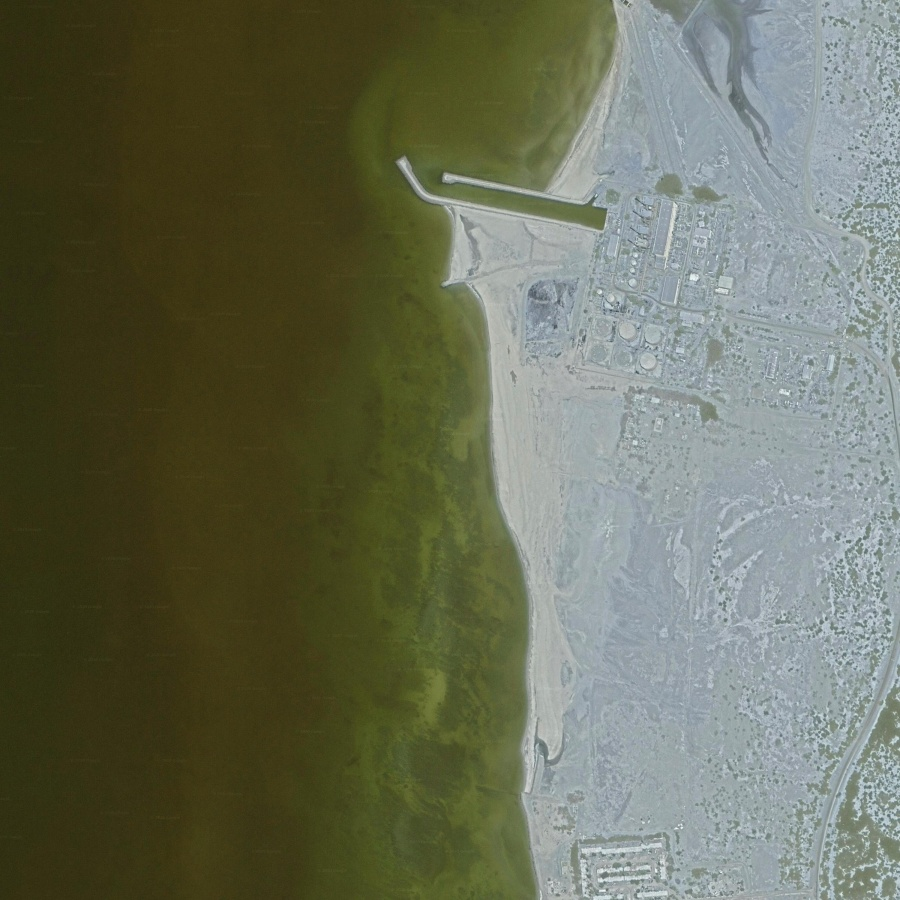PowerPlant: (514, 185, 742, 388)
